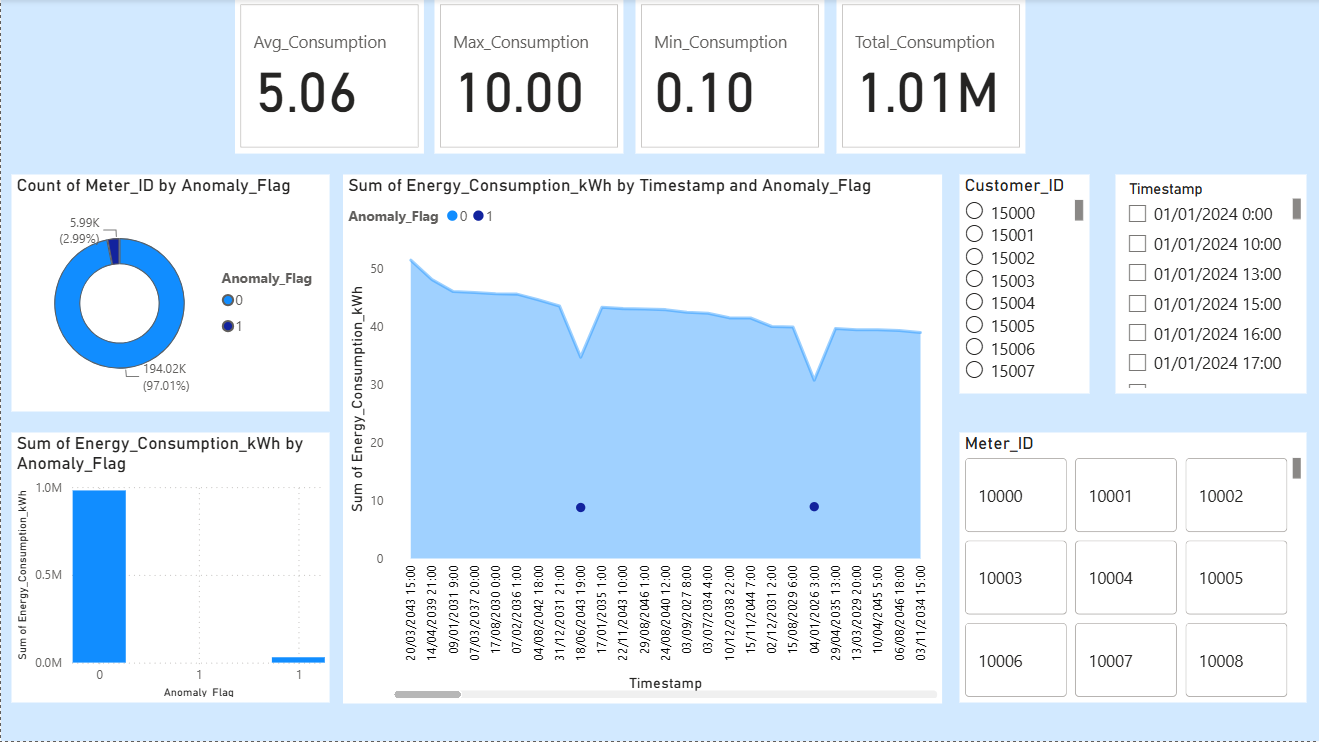

The page's visual inventory and layout, read from the dashboard file:
{"tool":"powerbi","page":{"name":"Page 1","canvas":[1280,720],"ordinal":0},"visuals":[{"type":"cardVisual","fields":{"Data":["Worksheet.Avg_Consumption"]},"box":[227.1,0,183.2,149.9],"z":0},{"type":"cardVisual","fields":{"Data":["Worksheet.Max_Consumption"]},"box":[420.9,0,183.2,149.9],"z":1000},{"type":"cardVisual","fields":{"Data":["Worksheet.Min_Consumption"]},"box":[616.3,0,183.2,149.9],"z":2000},{"type":"cardVisual","fields":{"Data":["Worksheet.Total_Consumption"]},"box":[810.1,0,183.2,149.9],"z":3000},{"type":"donutChart","fields":{"Category":["Worksheet.Anomaly_Flag"],"Y":["CountNonNull(Worksheet.Meter_ID)"]},"box":[10.6,169.6,308.9,230.2],"z":4000},{"type":"clusteredColumnChart","fields":{"Category":["Worksheet.Anomaly_Flag"],"Y":["Sum(Worksheet.Energy_Consumption_kWh)"]},"box":[10.6,420.9,308.9,262],"z":5000},{"type":"lineChart","fields":{"Category":["Worksheet.Timestamp"],"Y":["Sum(Worksheet.Energy_Consumption_kWh)"],"Series":["Worksheet.Anomaly_Flag"]},"box":[331.6,169.6,581.5,513.3],"z":6000},{"type":"advancedSlicerVisual","fields":{"Values":["Worksheet.Meter_ID"]},"box":[929.7,420.9,336.2,262],"z":7000},{"type":"listSlicer","fields":{"Values":["Worksheet.Customer_ID"]},"box":[929.7,169.6,125.7,212],"z":8000},{"type":"slicer","fields":{"Values":["Worksheet.Timestamp"]},"box":[1081.1,169.6,184.7,212],"z":9000}]}

Visuals, with their boxes in screenshot pixels (x1, y1, x2, y2), scaled from the page's 1280x720 canvas onto the 1319x742 screenshot:
cardVisual - Worksheet.Avg_Consumption: bbox(234, 0, 423, 154)
cardVisual - Worksheet.Max_Consumption: bbox(434, 0, 623, 154)
cardVisual - Worksheet.Min_Consumption: bbox(635, 0, 824, 154)
cardVisual - Worksheet.Total_Consumption: bbox(835, 0, 1024, 154)
donutChart - Worksheet.Anomaly_Flag x CountNonNull(Worksheet.Meter_ID): bbox(11, 175, 329, 412)
clusteredColumnChart - Worksheet.Anomaly_Flag x Sum(Worksheet.Energy_Consumption_kWh): bbox(11, 434, 329, 704)
lineChart - Worksheet.Timestamp x Sum(Worksheet.Energy_Consumption_kWh): bbox(342, 175, 941, 704)
advancedSlicerVisual - Worksheet.Meter_ID: bbox(958, 434, 1304, 704)
listSlicer - Worksheet.Customer_ID: bbox(958, 175, 1088, 393)
slicer - Worksheet.Timestamp: bbox(1114, 175, 1304, 393)
